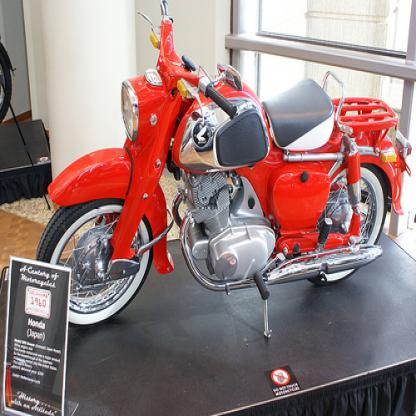motorbike: (32, 0, 411, 338)
